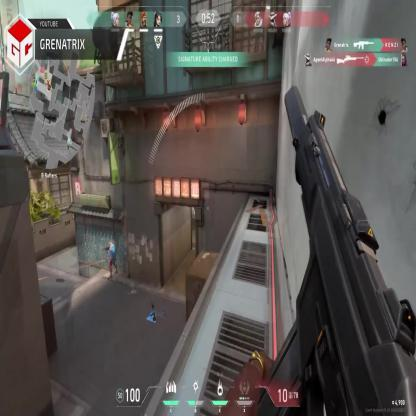enemy: (107, 240, 119, 278)
enemy_head: (108, 240, 113, 252)
